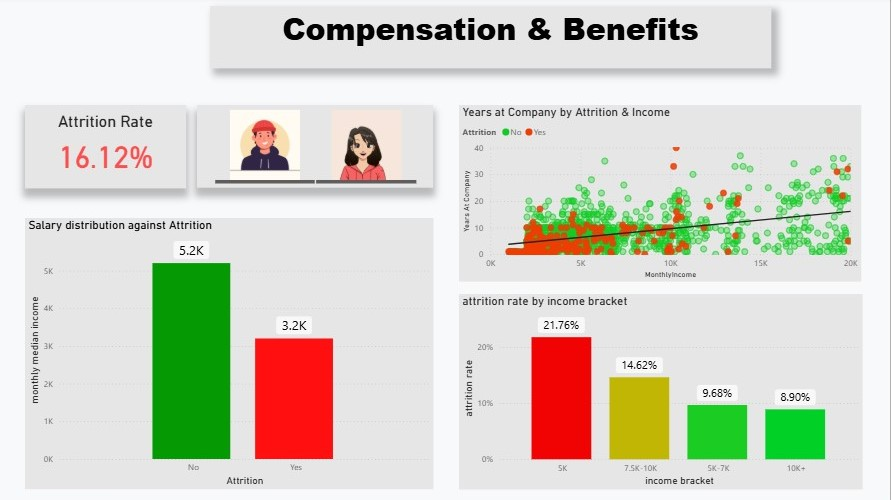

This screenshot's page, from the dashboard's own definition file:
{"tool":"powerbi","page":{"name":"Compensation & Benefits","canvas":[1280,720],"ordinal":3},"visuals":[{"type":"textbox","box":[309,12.8,800.8,89.3],"z":0},{"type":"scatterChart","title":"Years at Company by Attrition & Income","fields":{"X":["WA_Fn-UseC_-HR-Employee-Attrition.MonthlyIncome"],"Series":["WA_Fn-UseC_-HR-Employee-Attrition.Attrition"],"Y":["WA_Fn-UseC_-HR-Employee-Attrition.YearsAtCompany"]},"box":[665,153.7,573.9,252.1],"z":1000},{"type":"lineClusteredColumnComboChart","fields":{"Category":["WA_Fn-UseC_-HR-Employee-Attrition.income bracket"],"Y":["Measured.attrition rate"]},"box":[665,423.7,575.6,278.9],"z":2000},{"type":"lineClusteredColumnComboChart","title":"Salary distribution against Attrition","fields":{"Category":["WA_Fn-UseC_-HR-Employee-Attrition.Attrition"],"Y":["Measured.monthly median income"]},"box":[45.4,316.1,582.5,386.9],"z":3000},{"type":"card","title":"Attrition Rate","fields":{"Values":["Measured.attrition rate"]},"box":[45.4,154.5,229.6,119.1],"z":4000},{"type":"slicer","fields":{"Values":["WA_Fn-UseC_-HR-Employee-Attrition.ImageURL"]},"box":[291.1,154.1,336.8,118.4],"z":5000}]}

Visuals, with their boxes in screenshot pixels (x1, y1, x2, y2), scaled from the page's 1280x720 canvas onto the 892x500 screenshot:
textbox: left=215, top=9, right=773, bottom=71
"Years at Company by Attrition & Income" scatterChart: left=463, top=107, right=863, bottom=282
lineClusteredColumnComboChart - WA_Fn-UseC_-HR-Employee-Attrition.income bracket x Measured.attrition rate: left=463, top=294, right=865, bottom=488
"Salary distribution against Attrition" lineClusteredColumnComboChart: left=32, top=220, right=438, bottom=488
"Attrition Rate" card: left=32, top=107, right=192, bottom=190
slicer - WA_Fn-UseC_-HR-Employee-Attrition.ImageURL: left=203, top=107, right=438, bottom=189
